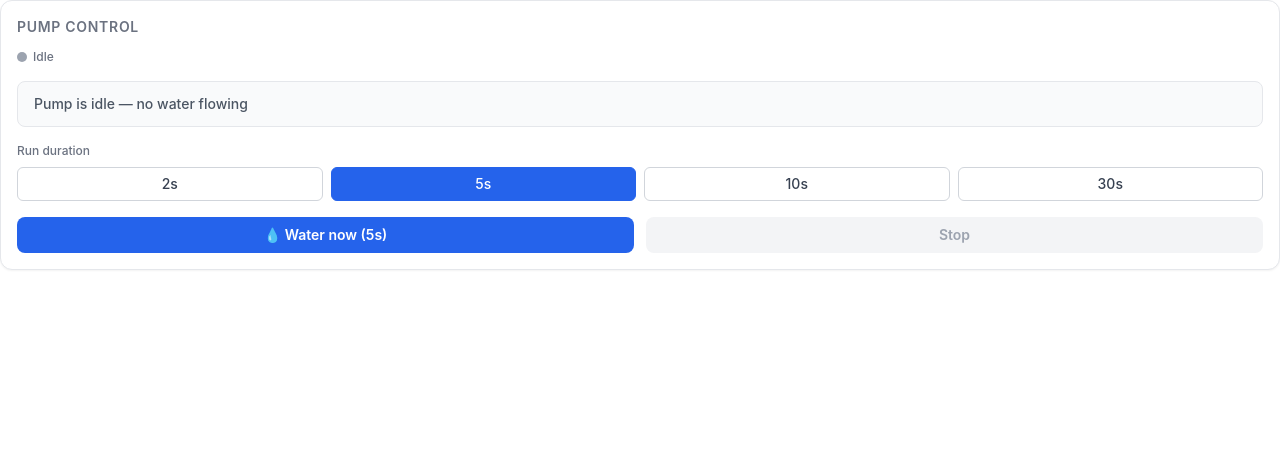
Test: ControlPanel (MSW integration) › shows error and rolls back when the action fails
Expected: the text "Pump is idle — no water flowing" is shown, [17,81,1263,127]
Click the button "💧 Water now (5s)" at (326,235), box [17,217,634,253]
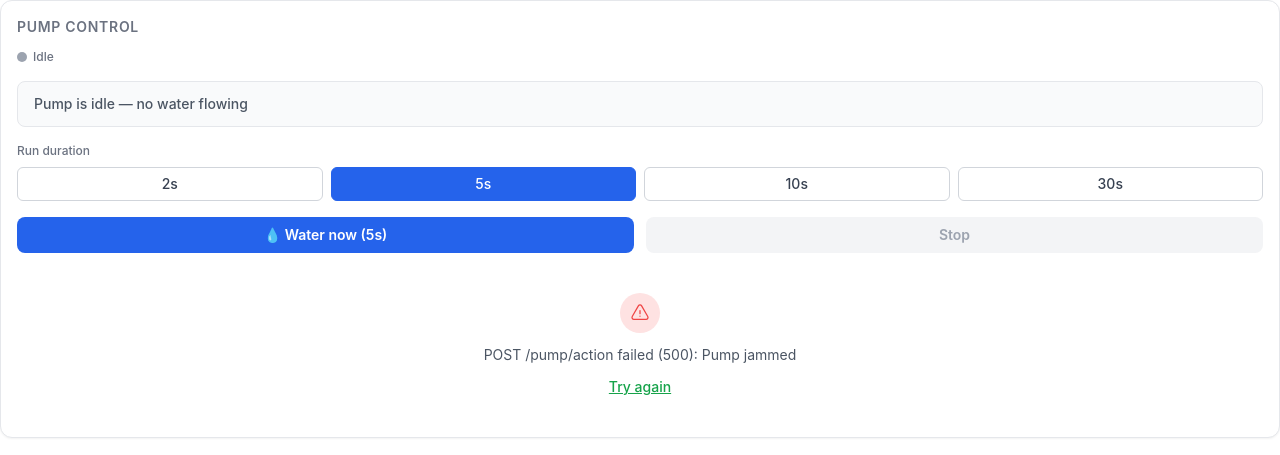
Expected: the text "Pump is idle — no water flowing" is shown, [17,81,1263,127]
Expected: the text "POST /pump/action failed (500): Pump jammed" is shown, [484,345,796,365]
